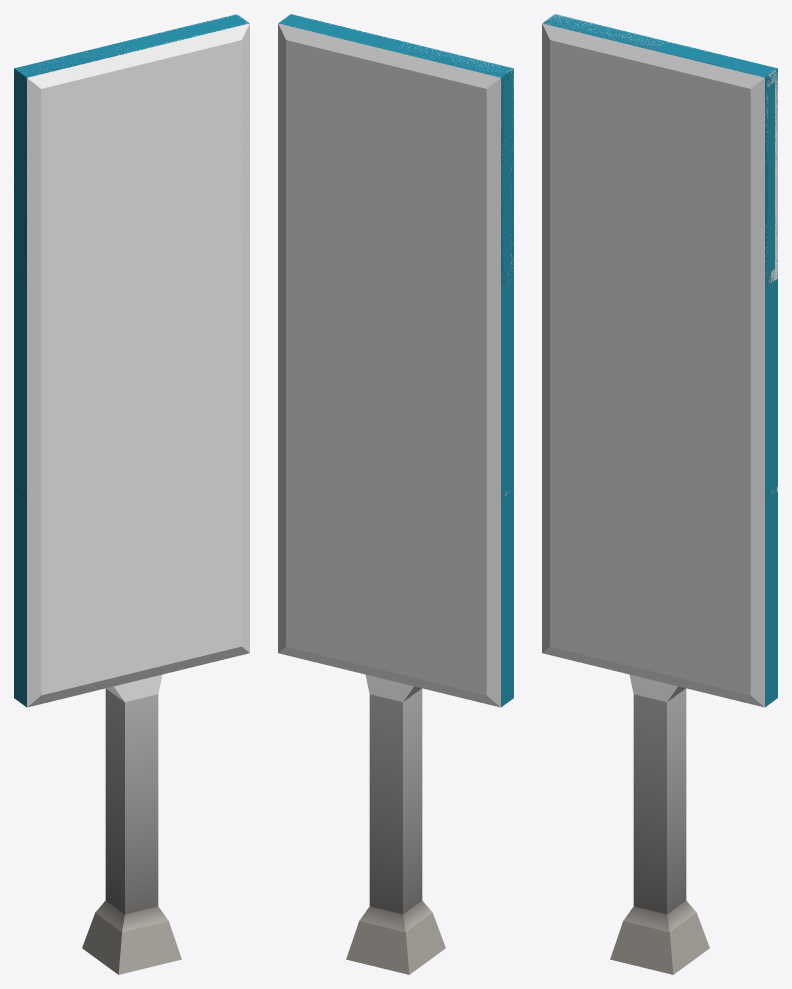
File: s_fuel_sign_apex.dae
3 views of the same model, side by side, from view 1: azimuth 30°, elevation 25°; view 2: azimuth 150°, elevation 25°; view 3: azimuth 330°, elevation 25° (orthographic).
Parts seen in each view (by area): view 1: Colmesh_s_fuel_sign_apex-1, s_fuel_sign_apex_L1000, s_fuel_sign_apex_L200, s_fuel_sign_apex_L30; view 2: Colmesh_s_fuel_sign_apex-1, s_fuel_sign_apex_L1000, s_fuel_sign_apex_L200, s_fuel_sign_apex_L30, s_fuel_sign_apex_L100; view 3: Colmesh_s_fuel_sign_apex-1, s_fuel_sign_apex_L1000, s_fuel_sign_apex_L200, s_fuel_sign_apex_L30.
Boxes of the visible parts, x1=… form: Colmesh_s_fuel_sign_apex-1: x1=14, y1=14, x2=249, y2=974; s_fuel_sign_apex_L1000: x1=15, y1=15, x2=246, y2=704; s_fuel_sign_apex_L200: x1=14, y1=15, x2=249, y2=707; s_fuel_sign_apex_L30: x1=14, y1=14, x2=242, y2=499; Colmesh_s_fuel_sign_apex-1: x1=278, y1=14, x2=513, y2=974; s_fuel_sign_apex_L1000: x1=281, y1=15, x2=512, y2=704; s_fuel_sign_apex_L200: x1=278, y1=14, x2=513, y2=707; s_fuel_sign_apex_L30: x1=287, y1=14, x2=513, y2=702; s_fuel_sign_apex_L100: x1=501, y1=70, x2=513, y2=285; Colmesh_s_fuel_sign_apex-1: x1=542, y1=14, x2=777, y2=974; s_fuel_sign_apex_L1000: x1=545, y1=15, x2=776, y2=703; s_fuel_sign_apex_L200: x1=542, y1=14, x2=777, y2=707; s_fuel_sign_apex_L30: x1=543, y1=14, x2=777, y2=497.
Bounding box in the file's own units: 4 × 1.14 × 15.57.
